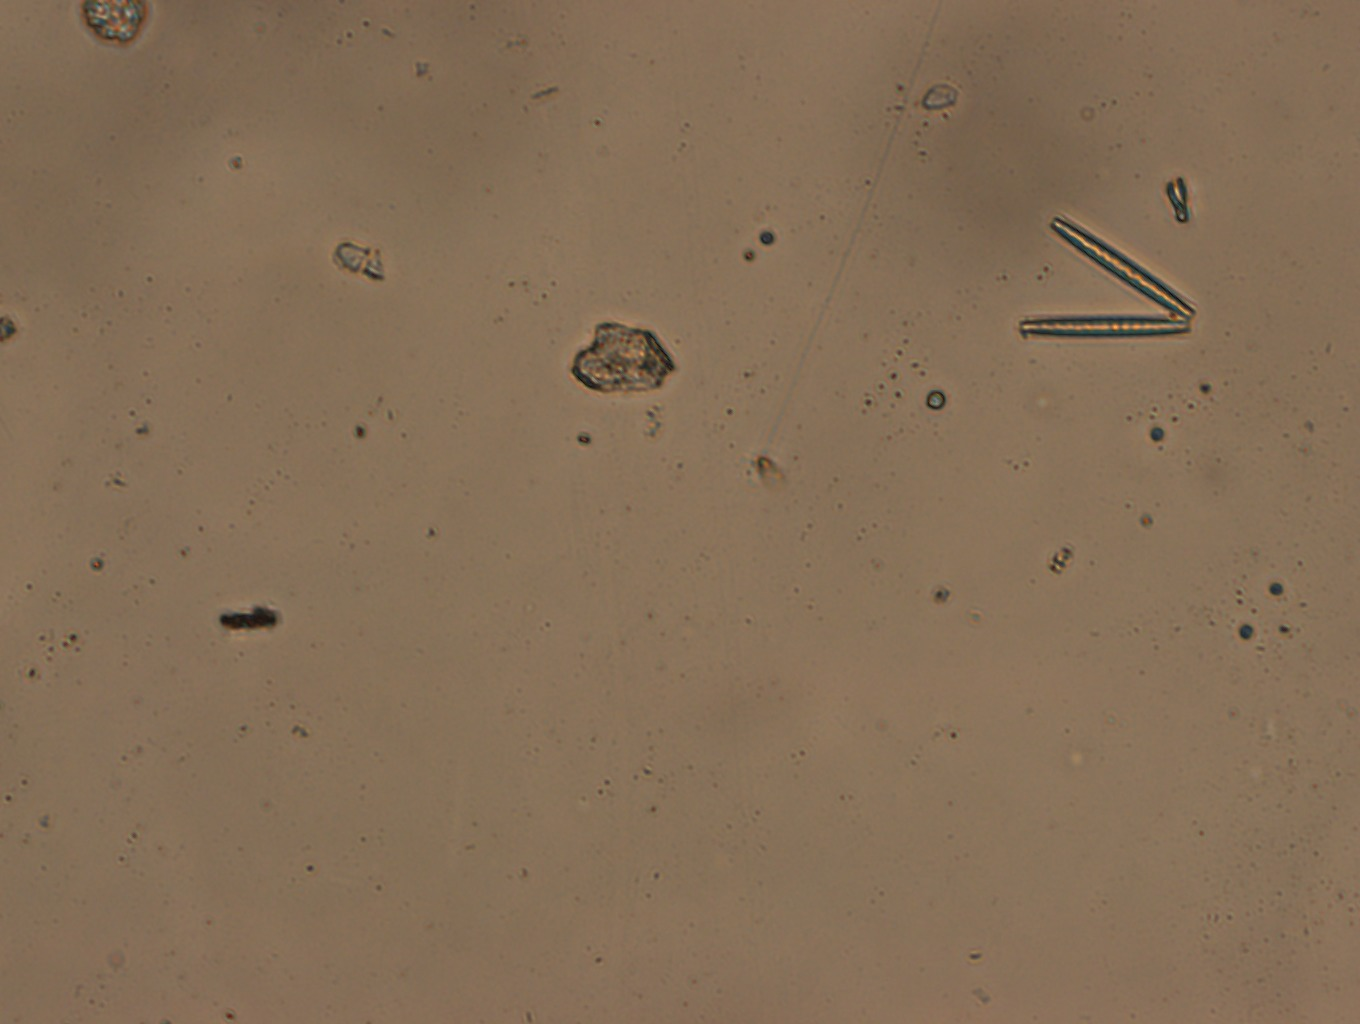thalassionema nitzschioides: (1017, 217, 1197, 336)
